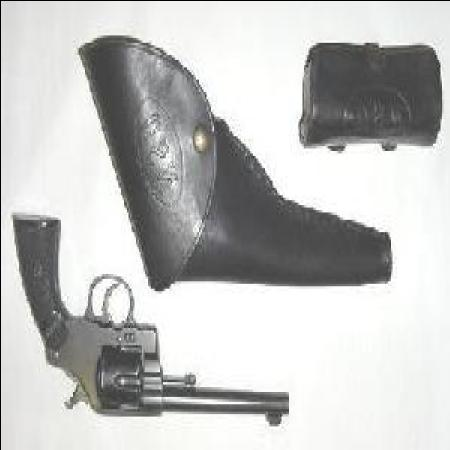Pistol: (9, 219, 287, 433)
